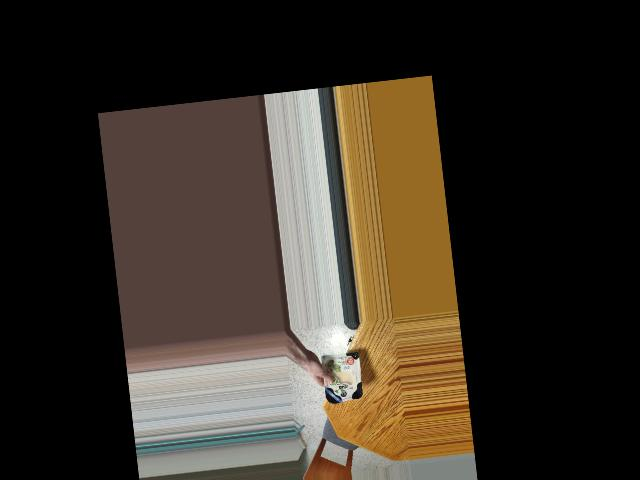cheese: (317, 348, 363, 405)
